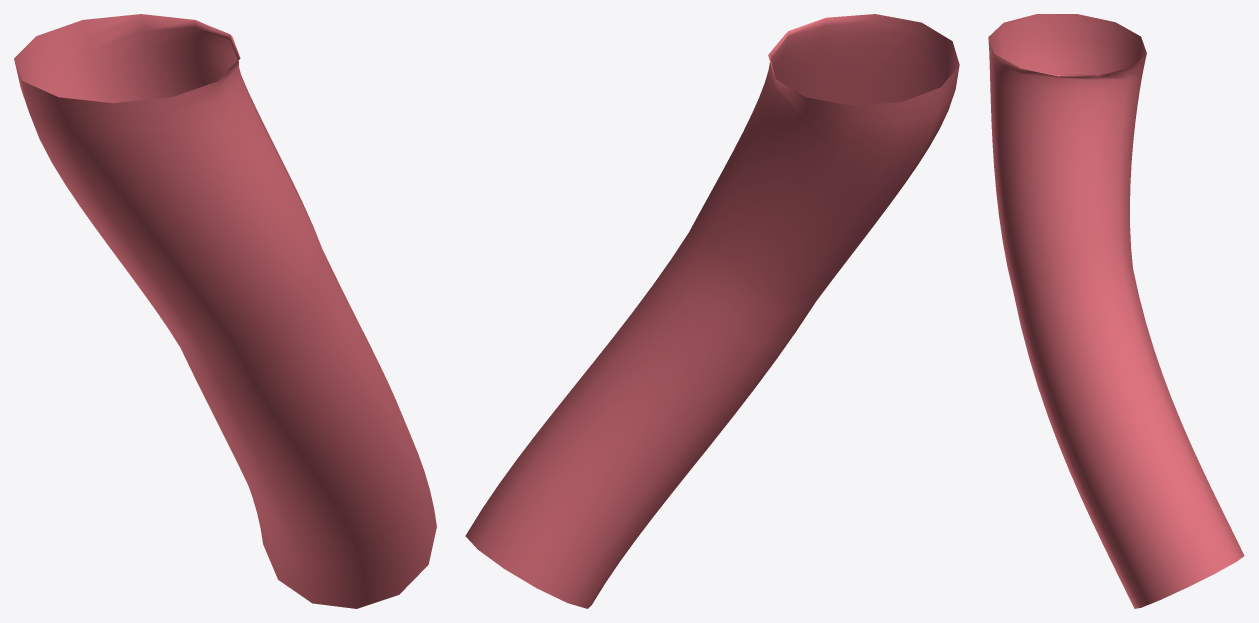
The picture shows the model from 3 angles, left to right: view 1: azimuth 30°, elevation 25°; view 2: azimuth 150°, elevation 25°; view 3: azimuth 270°, elevation 25°; orthographic projection. The views are drawn at different scales.
Visible parts, largest first — view 1: ZA_d0621d24b88b4bcb; view 2: ZA_d0621d24b88b4bcb; view 3: ZA_d0621d24b88b4bcb.
Boxes of the visible parts, bbox=[...] form: ZA_d0621d24b88b4bcb: bbox=[14, 14, 436, 608]; ZA_d0621d24b88b4bcb: bbox=[465, 14, 959, 608]; ZA_d0621d24b88b4bcb: bbox=[988, 14, 1244, 608].
Size of the model in its own units: 0.0411 by 0.0546 by 0.0272.
